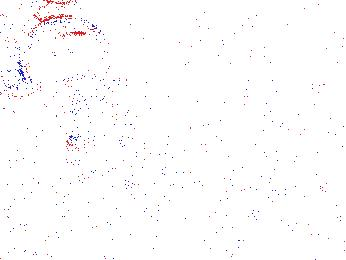moon jellyfish: (219, 2, 346, 89), (18, 15, 109, 89), (64, 74, 132, 150)
